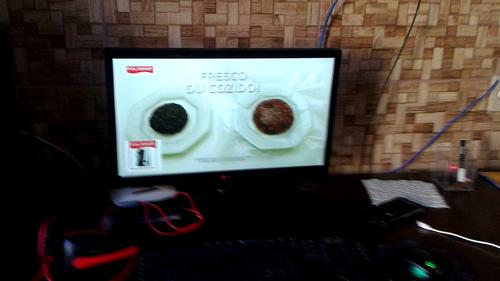Polishop #1: (123, 139, 161, 175)
